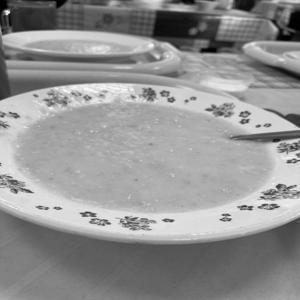porridge: (15, 89, 283, 231)
